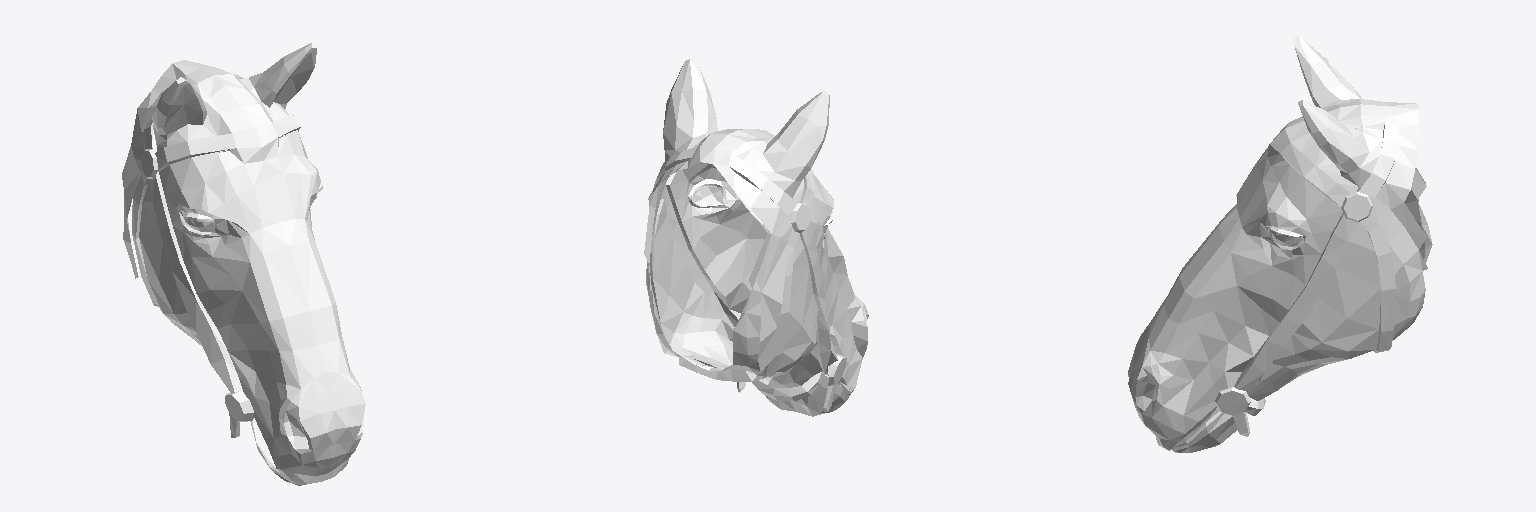
Rendered from head.obj.
3 renders of one model, left to right at view 1: azimuth 30°, elevation 25°; view 2: azimuth 150°, elevation 25°; view 3: azimuth 270°, elevation 25°, orthographic.
Visible parts, largest first — view 1: horse; view 2: horse; view 3: horse.
Part boxes in pixels (x1,y1,x2,y2): horse: (122, 43, 365, 485); horse: (644, 59, 868, 416); horse: (1128, 35, 1432, 452).
Bounding box in the file's own units: 12.68 × 29.57 × 21.68.